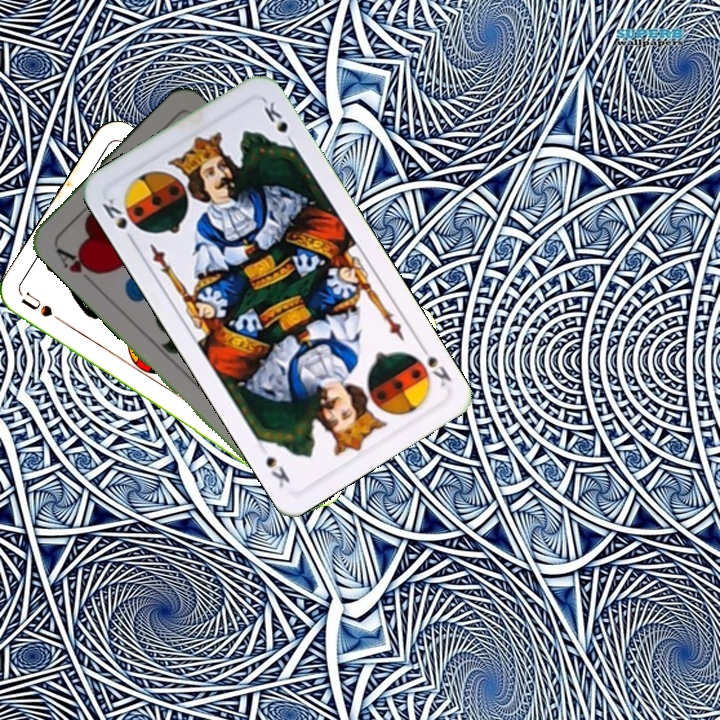HA: (51, 241, 102, 278)
SK: (408, 340, 454, 389), (98, 194, 138, 247)
SU: (17, 289, 73, 330)
